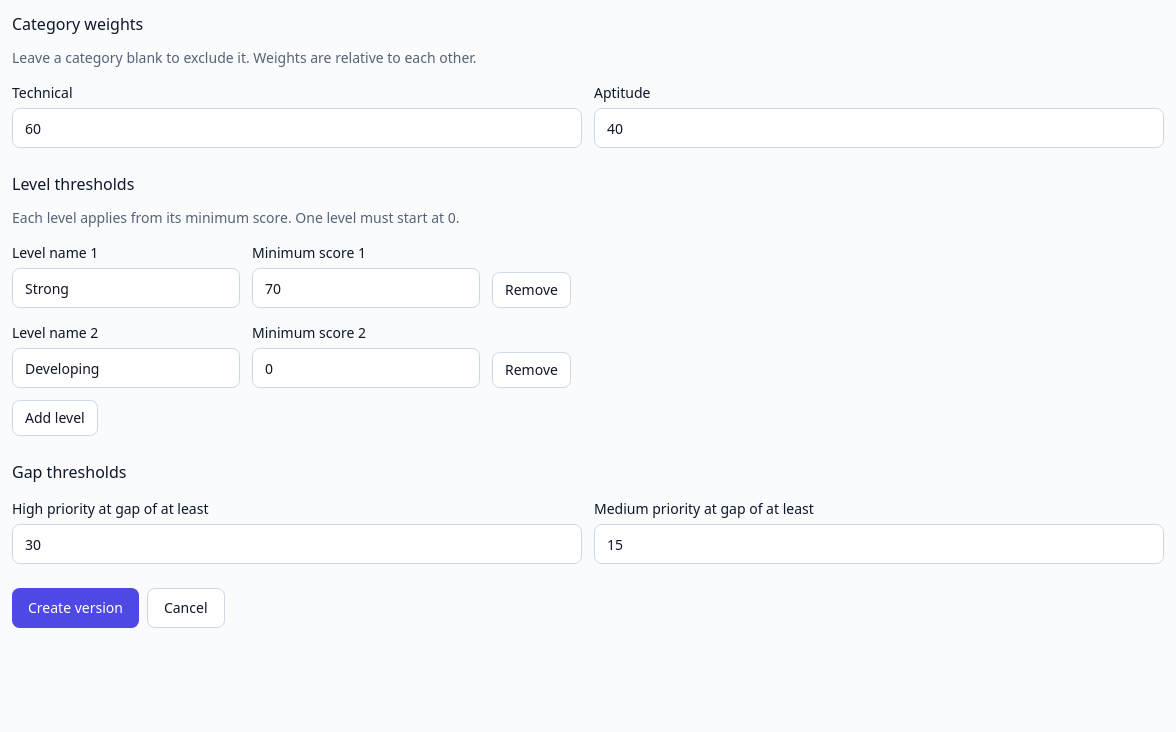
RuleForm › rejects duplicate level names
The width and height of the screenshot is (1176, 732).
Replace the text in the field labelled "Level name 2" with "strong": point(126, 368) [12,348,240,388]
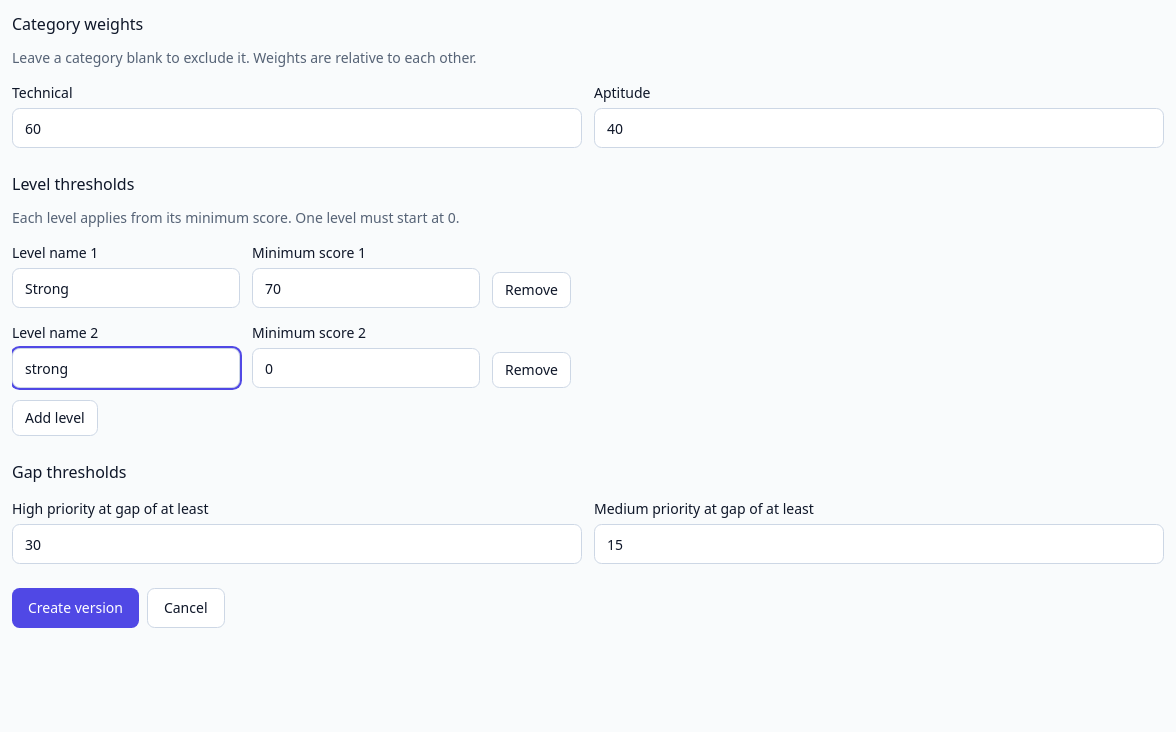
Click the button "Create version": point(75, 608) [12,588,139,628]
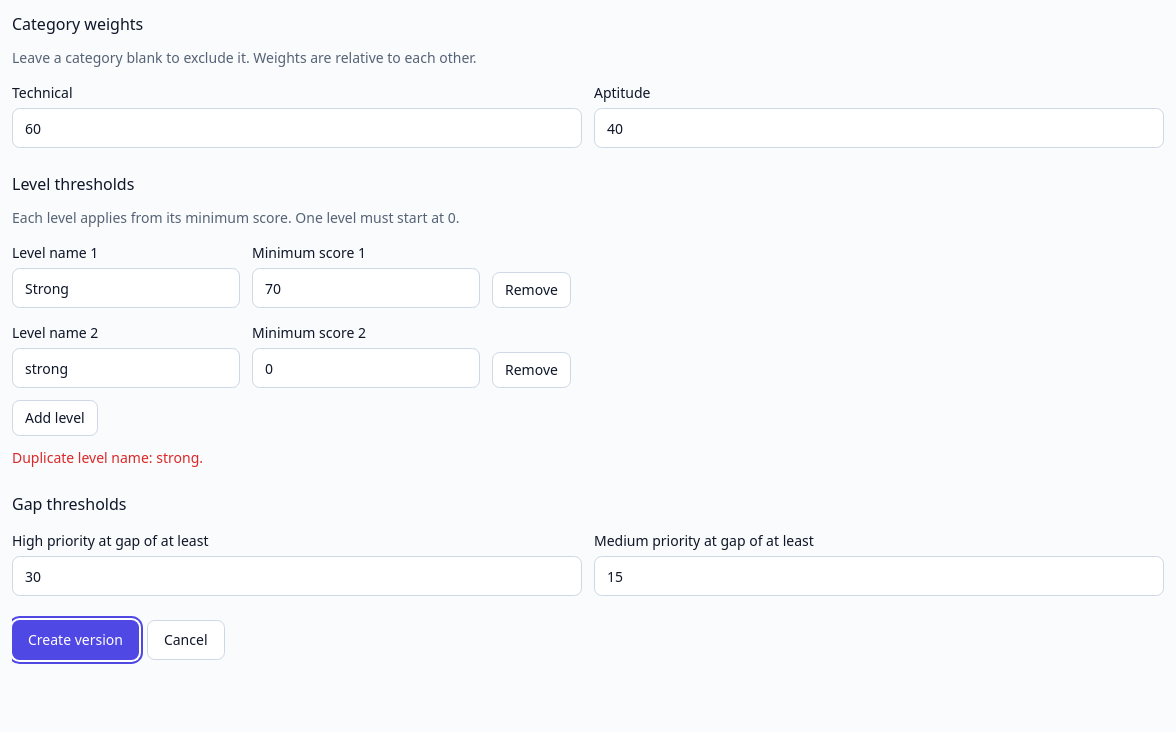
expect the text "Duplicate level name: strong." is shown: met, box [12,448,203,467]
